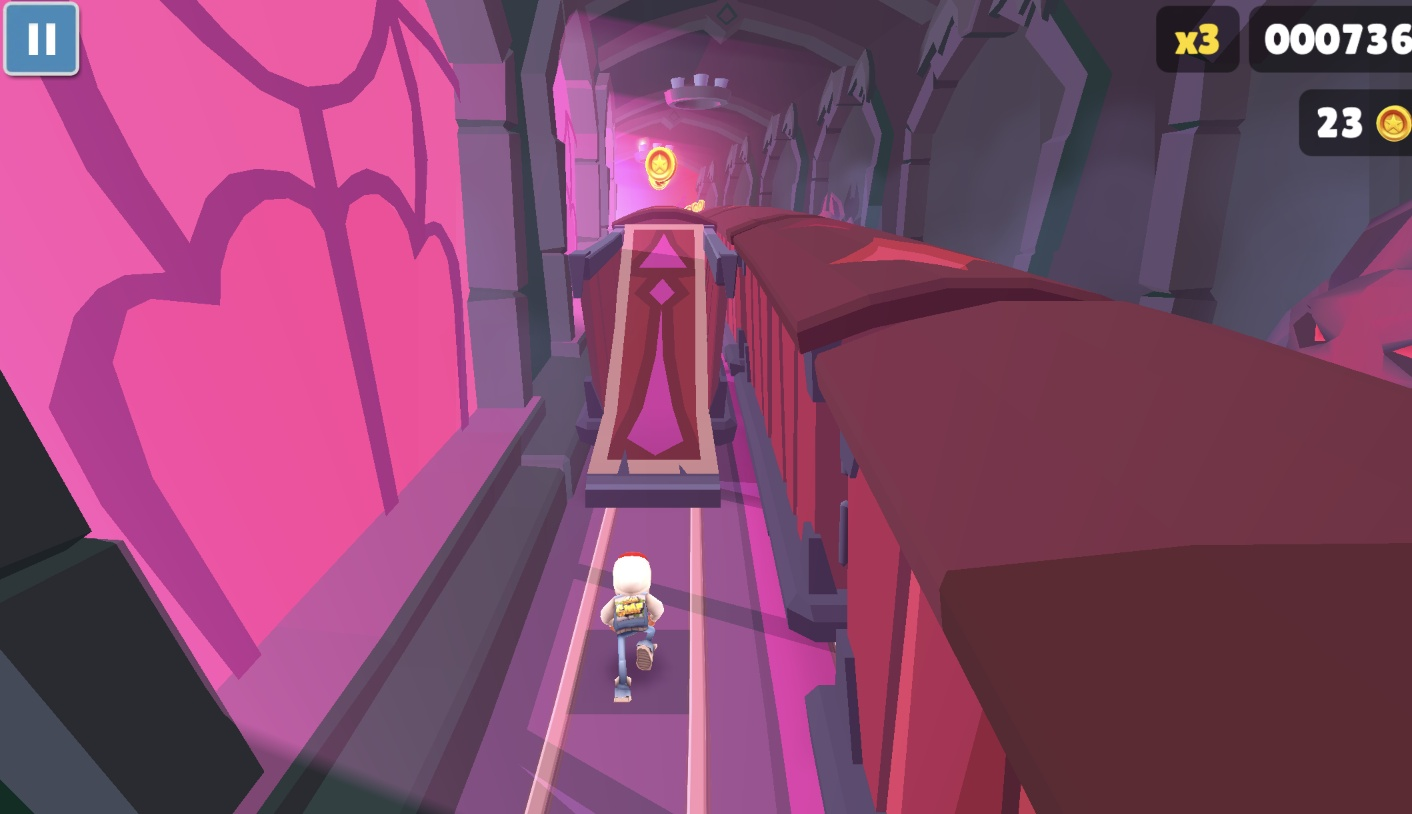train: (689, 208, 1412, 814), (565, 207, 741, 505)
